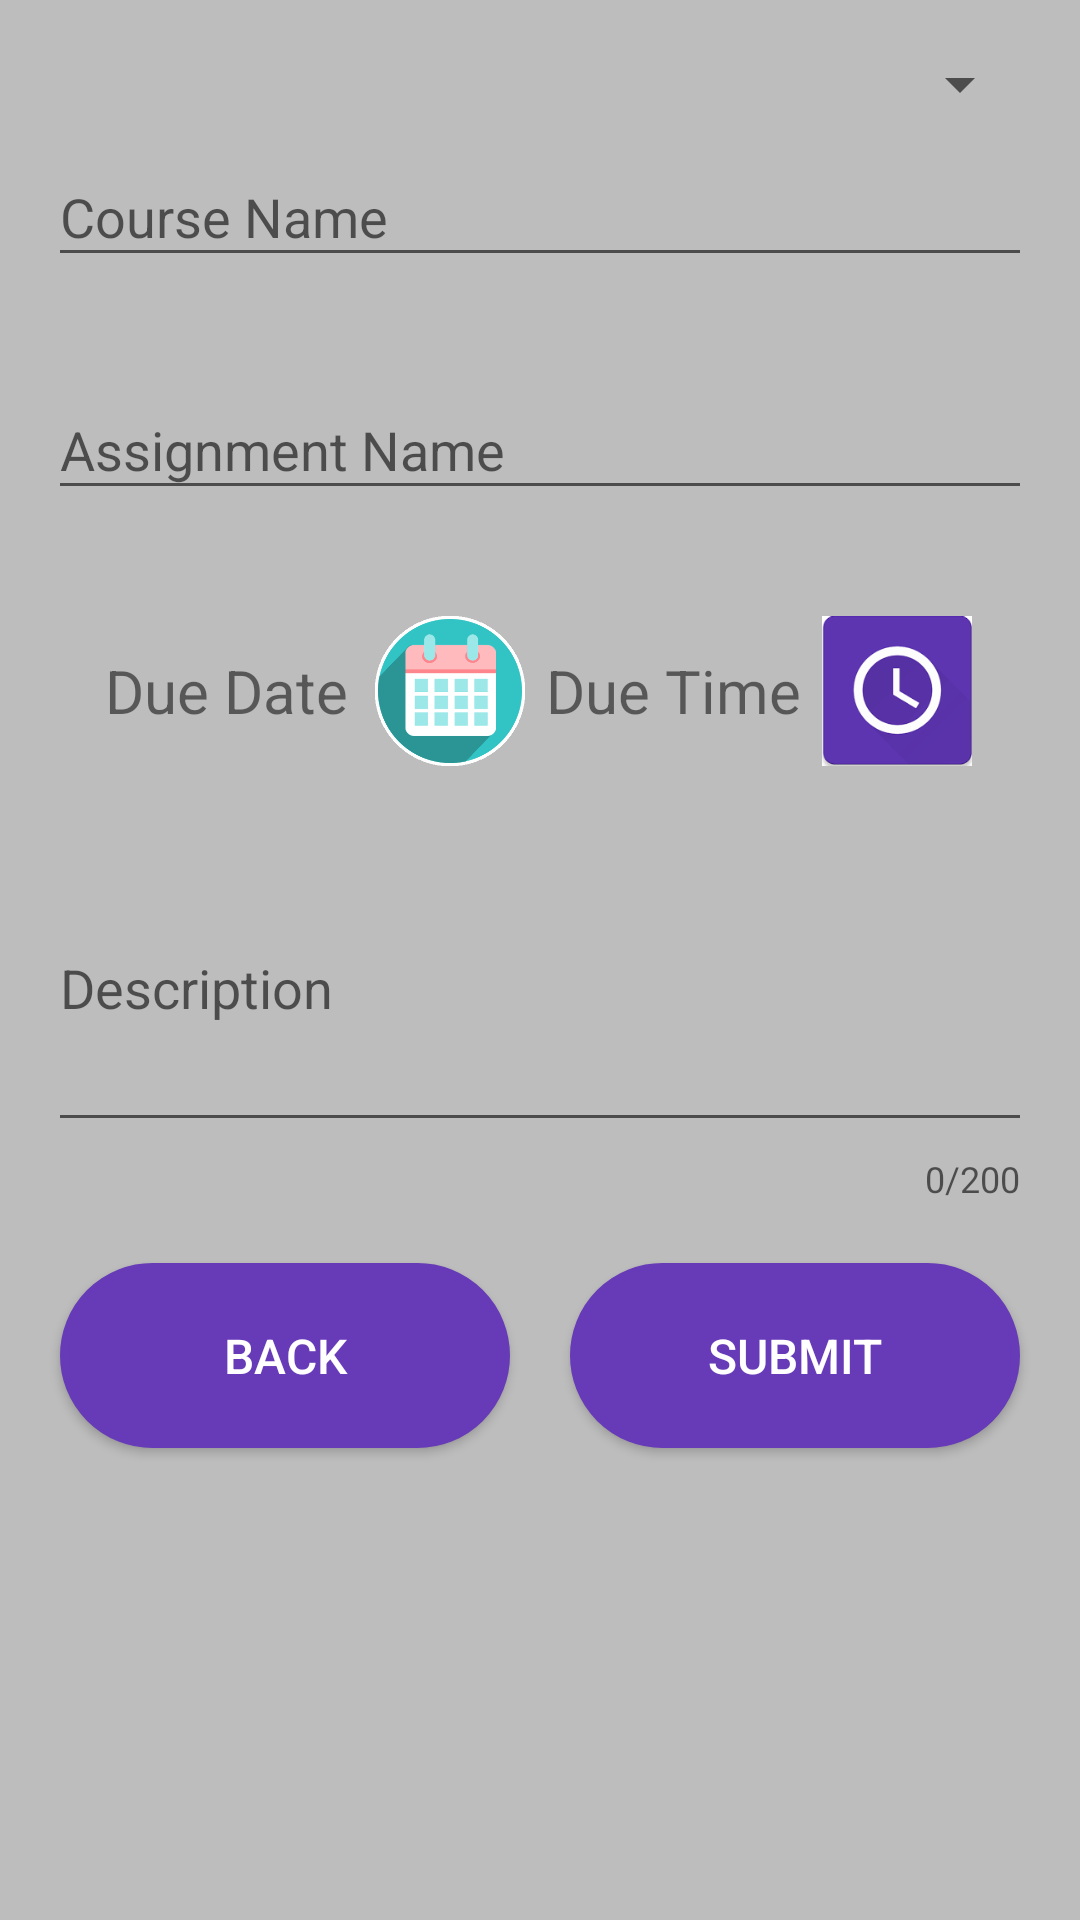

Point at icon controls on the screen. Image size 1080px x 1920px, points as (x=x, y=y).
clock time: (x=897, y=691)
